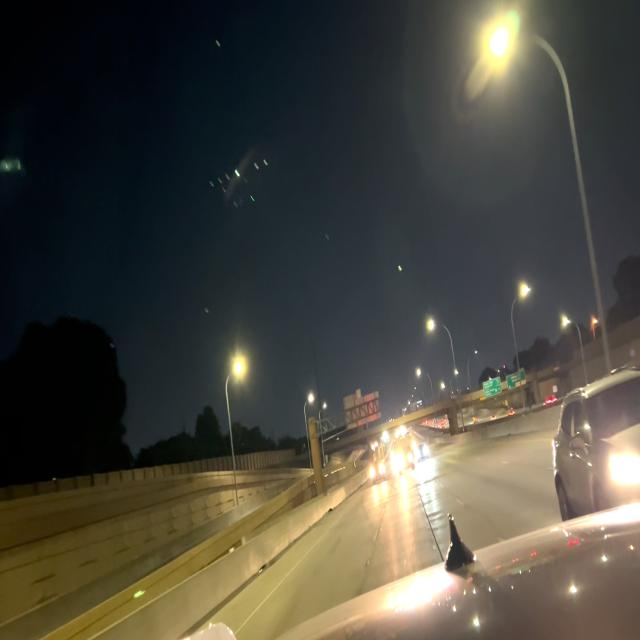back-of-sign: (341, 387, 383, 432)
